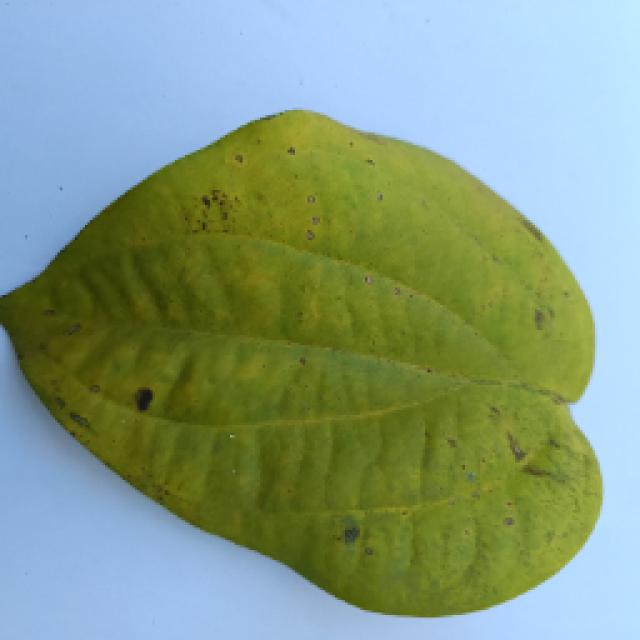slow-decline: (0, 130, 595, 635)
